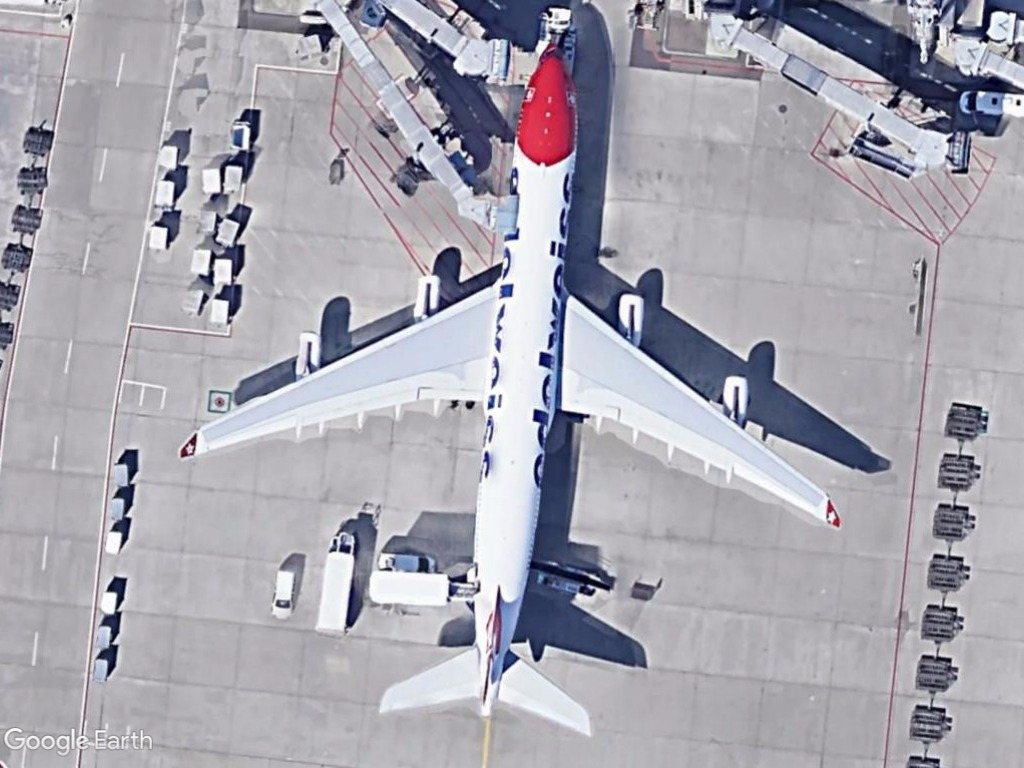airliner: (173, 34, 841, 749)
truck: (312, 530, 358, 636)
van: (269, 566, 298, 622)
